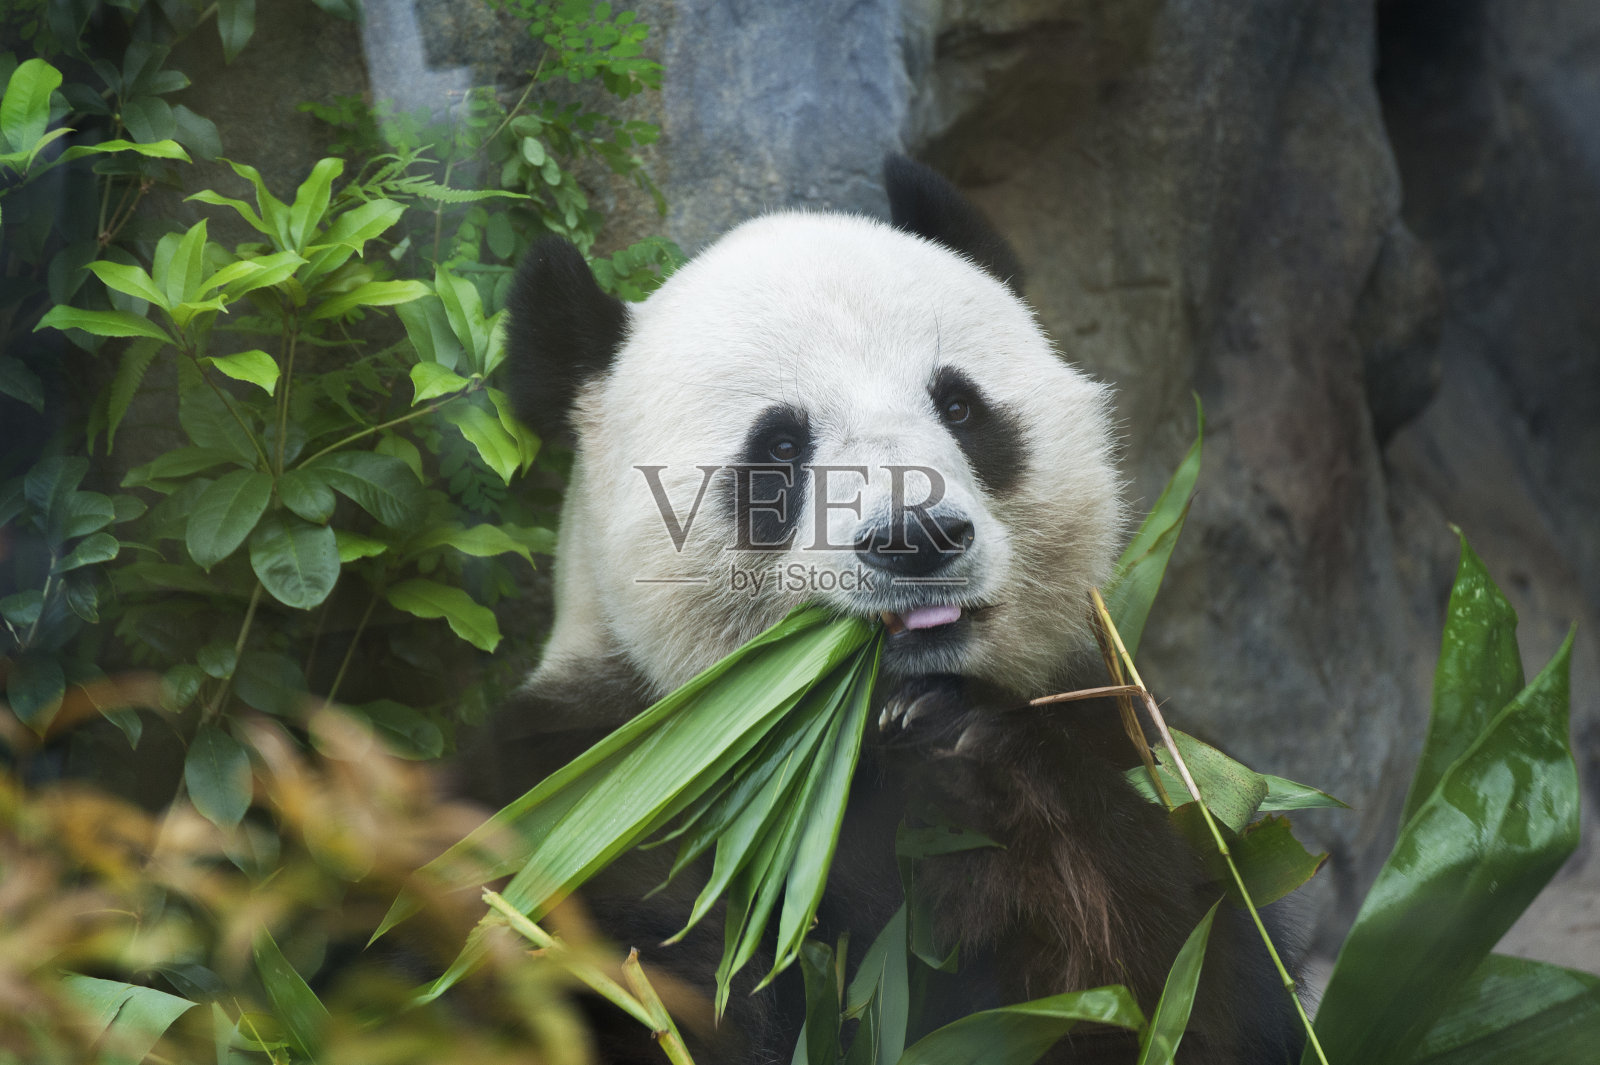panda: (440, 136, 1233, 1012)
